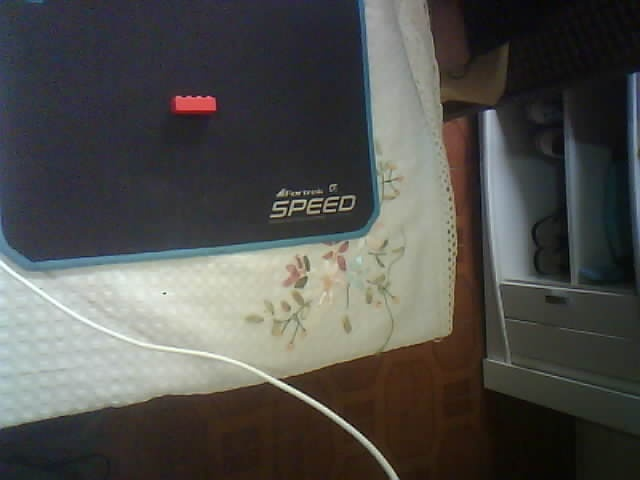lego: (169, 94, 217, 115)
